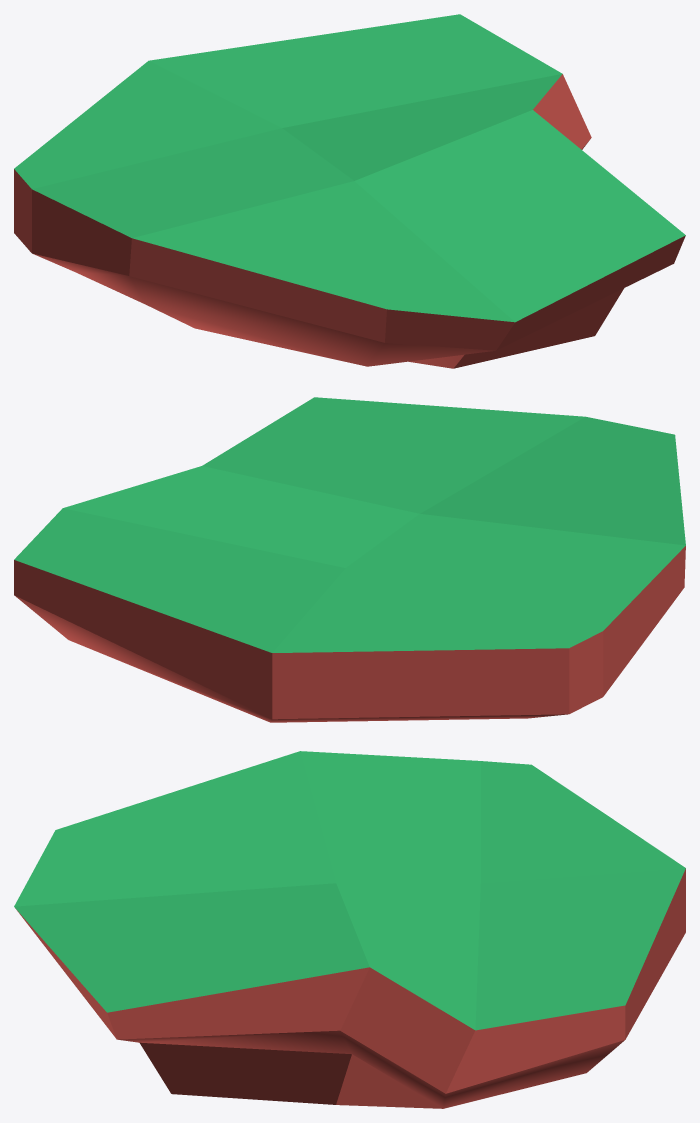
Rendered from lacune.fbx_Platform001.fbx.
The picture shows the model from 3 angles, top to bottom: view 1: azimuth 30°, elevation 25°; view 2: azimuth 150°, elevation 25°; view 3: azimuth 270°, elevation 25°; orthographic projection. The views are drawn at different scales.
Parts seen in each view (by area): view 1: Platform001; view 2: Platform001; view 3: Platform001.
Part boxes in pixels (x1,y1,x2,y2): Platform001: [14, 14, 685, 368]; Platform001: [14, 397, 685, 722]; Platform001: [14, 751, 685, 1108].
Size of what is drawn, in the model's own units: 1981 by 596 by 2123.
